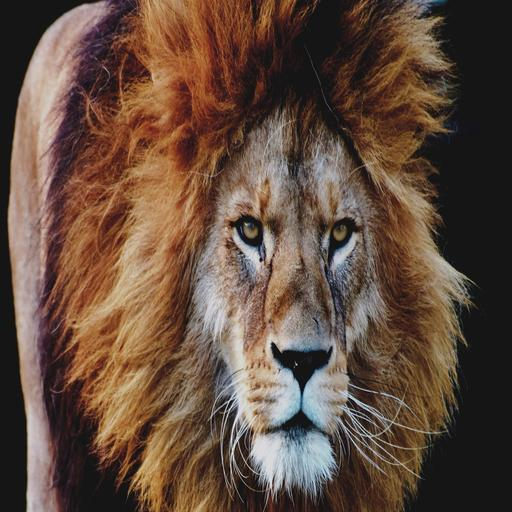Lion: (0, 0, 495, 512)
